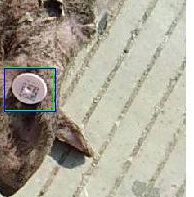text: (4, 67, 53, 110)
